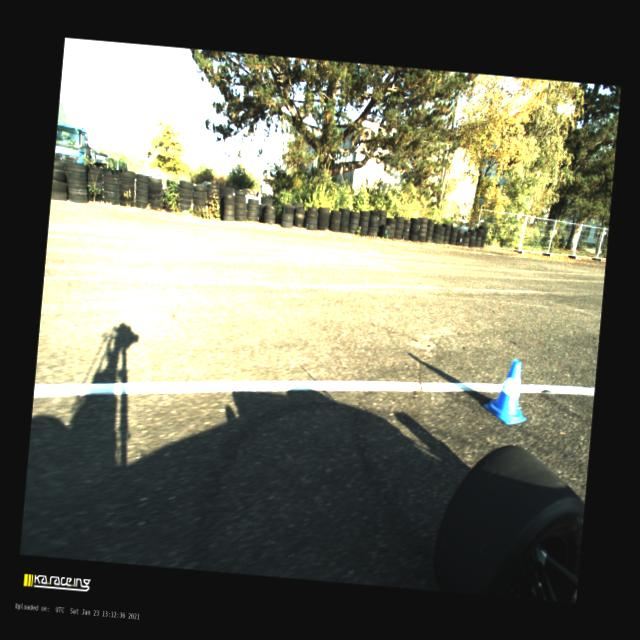blue_cone: (482, 356, 532, 426)
